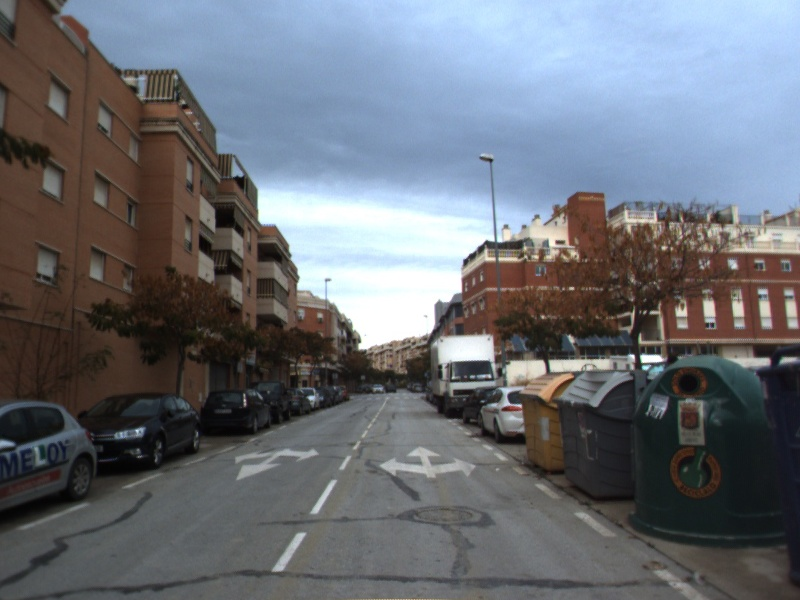STRAIGHT_LEFT_RIGHT: (378, 444, 478, 480)
